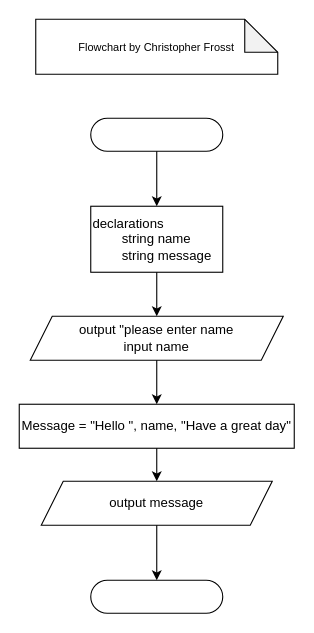
Some shapes in this 314 by 633 pixel diagram are drawn without their labels. The shapes that lost their labels are listed below. From the top down, each one's box as (x1, y1, x2, y2) in pixels, then its label:
(90, 117, 223, 151): Start
(90, 579, 223, 613): Stop
